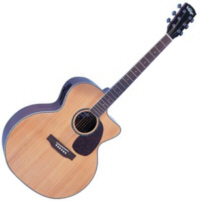guitar: (1, 2, 197, 199)
